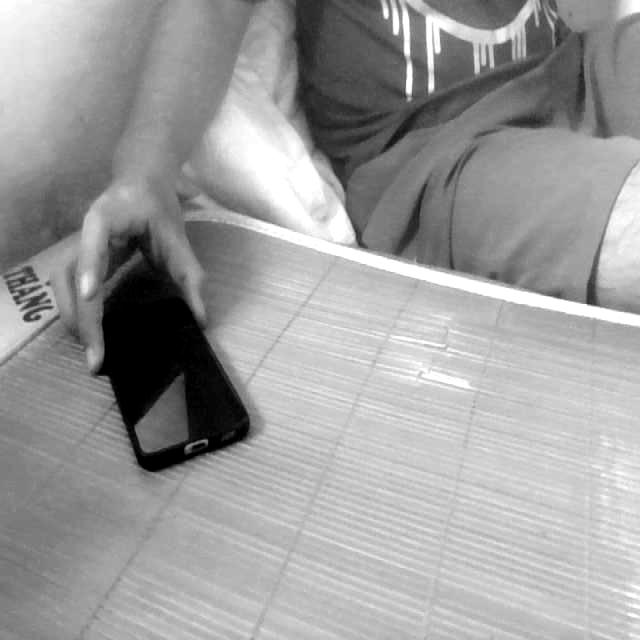phone: (67, 270, 272, 490)
